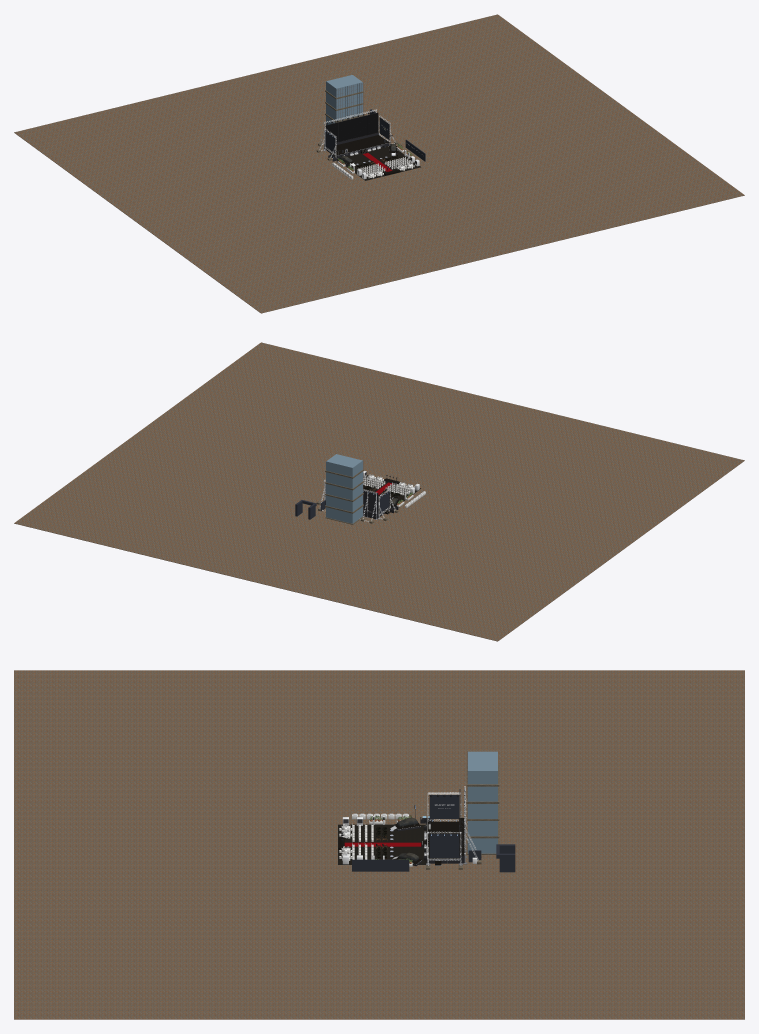
Rendered from venue.glb.
3 views of the same model, one above another, from view 1: azimuth 30°, elevation 25°; view 2: azimuth 150°, elevation 25°; view 3: azimuth 270°, elevation 25° (orthographic). The views are drawn at different scales.
Parts seen in each view (by area): view 1: venue; view 2: venue; view 3: venue.
Part boxes in pixels (<box>): venue: <box>14,14,744,313</box>; venue: <box>14,342,744,641</box>; venue: <box>14,670,744,1019</box>.
Bounding box in the file's own units: 158 × 17.77 × 140.
39 materials, 14 textured.
